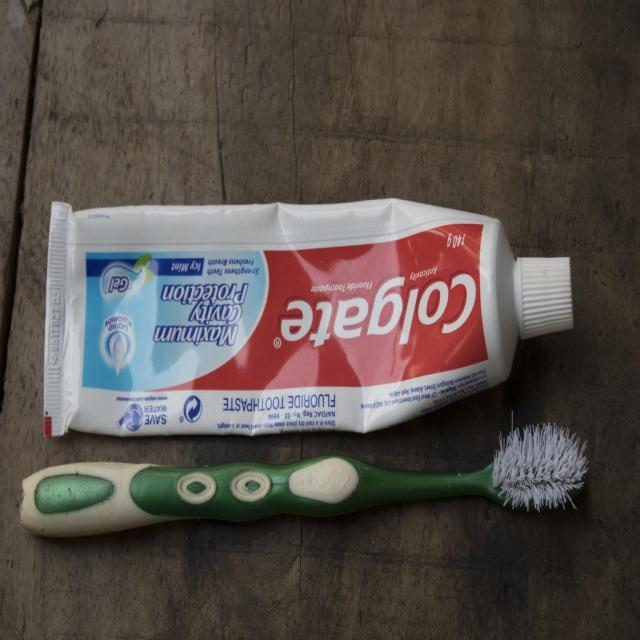Toothpaste: (34, 188, 598, 428)
